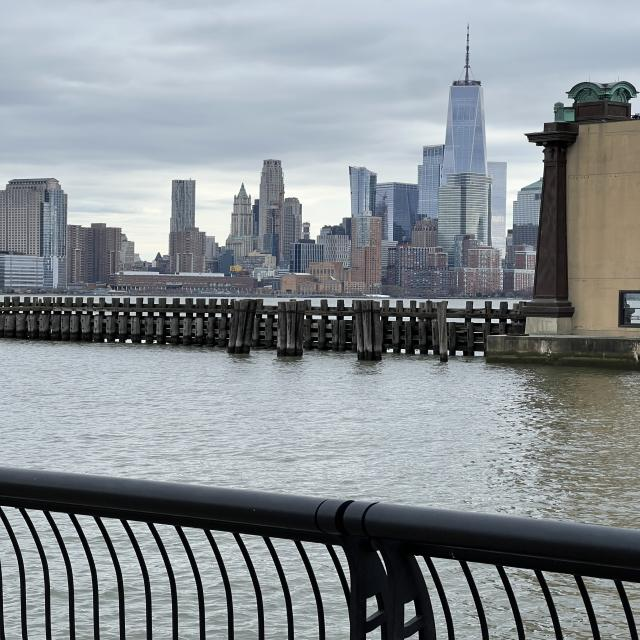WTC: (444, 21, 487, 176)
